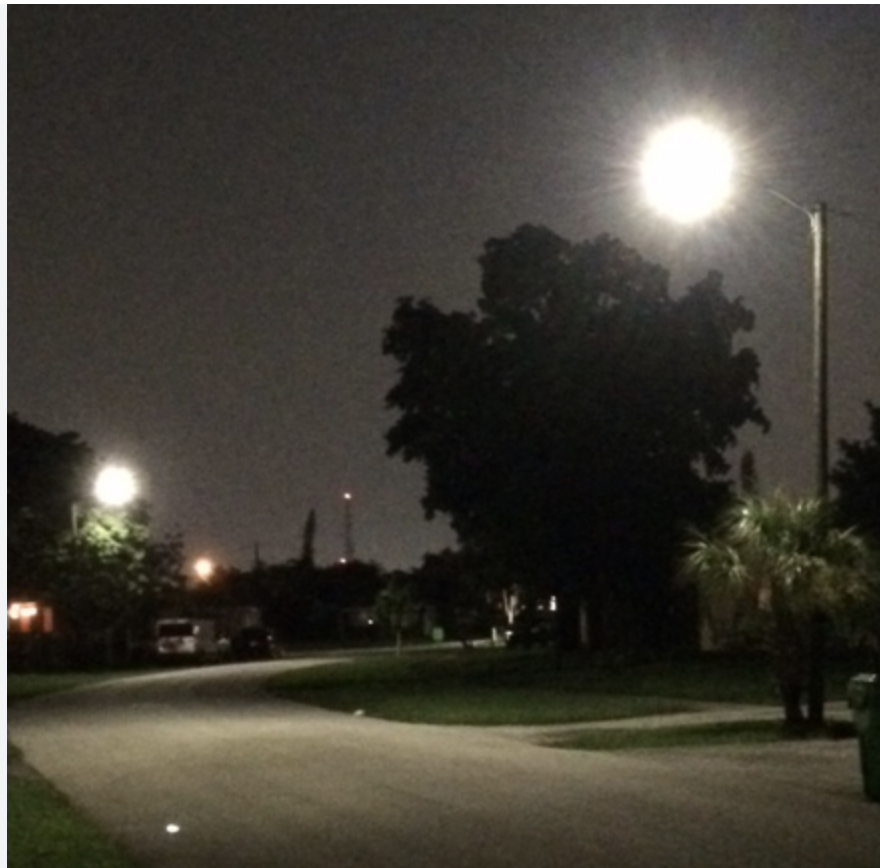LED: (604, 109, 762, 228), (68, 451, 143, 514)
